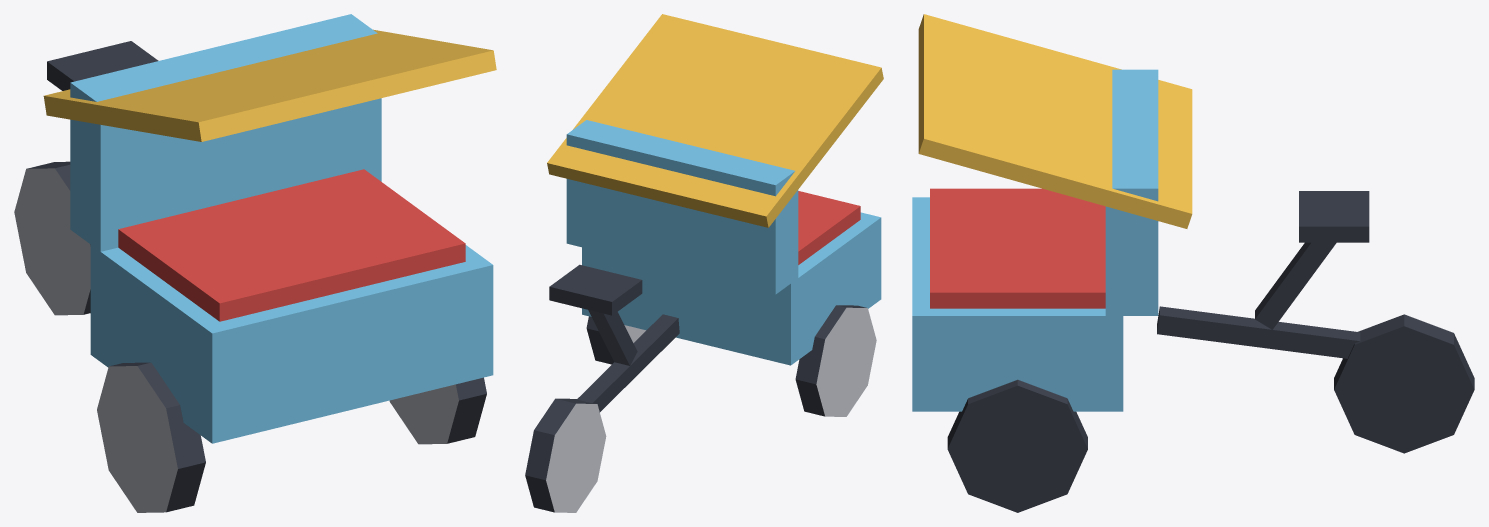
Rendered from vehicle_becak.glb.
3 renders of one model, left to right at view 1: azimuth 30°, elevation 25°; view 2: azimuth 150°, elevation 25°; view 3: azimuth 270°, elevation 25°, orthographic. The views are drawn at different scales.
Parts seen in each view (by area): view 1: vehicle_becak; view 2: vehicle_becak; view 3: vehicle_becak.
Part boxes in pixels (<box>): vehicle_becak: <box>14,14,496,512</box>; vehicle_becak: <box>525,14,883,512</box>; vehicle_becak: <box>912,14,1474,512</box>.
Bounding box in the file's own units: 0.088 × 0.1166 × 0.16.
